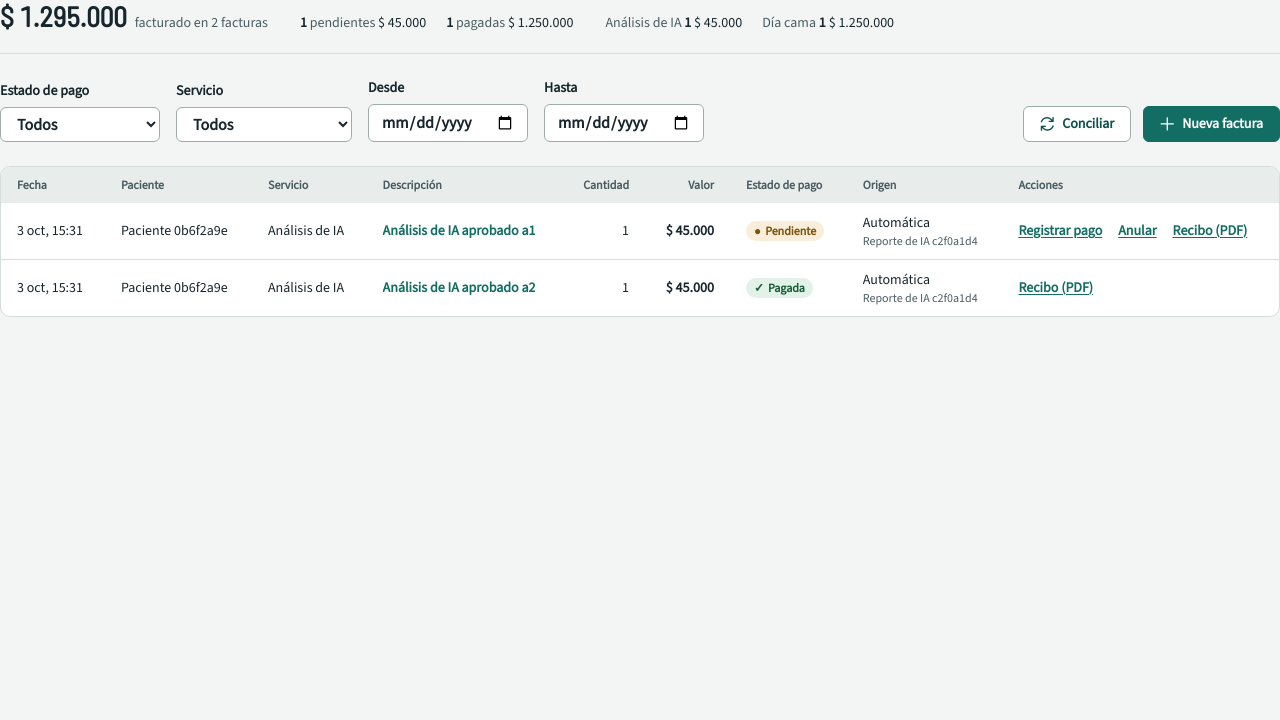
Test: billing screen › asks for the patient id and explains why when the role cannot search
What coordinates should you click on to do the following:
click the button "Nueva factura"
I would click on:
 (1212, 124)
Its box is [1143,106,1279,142].
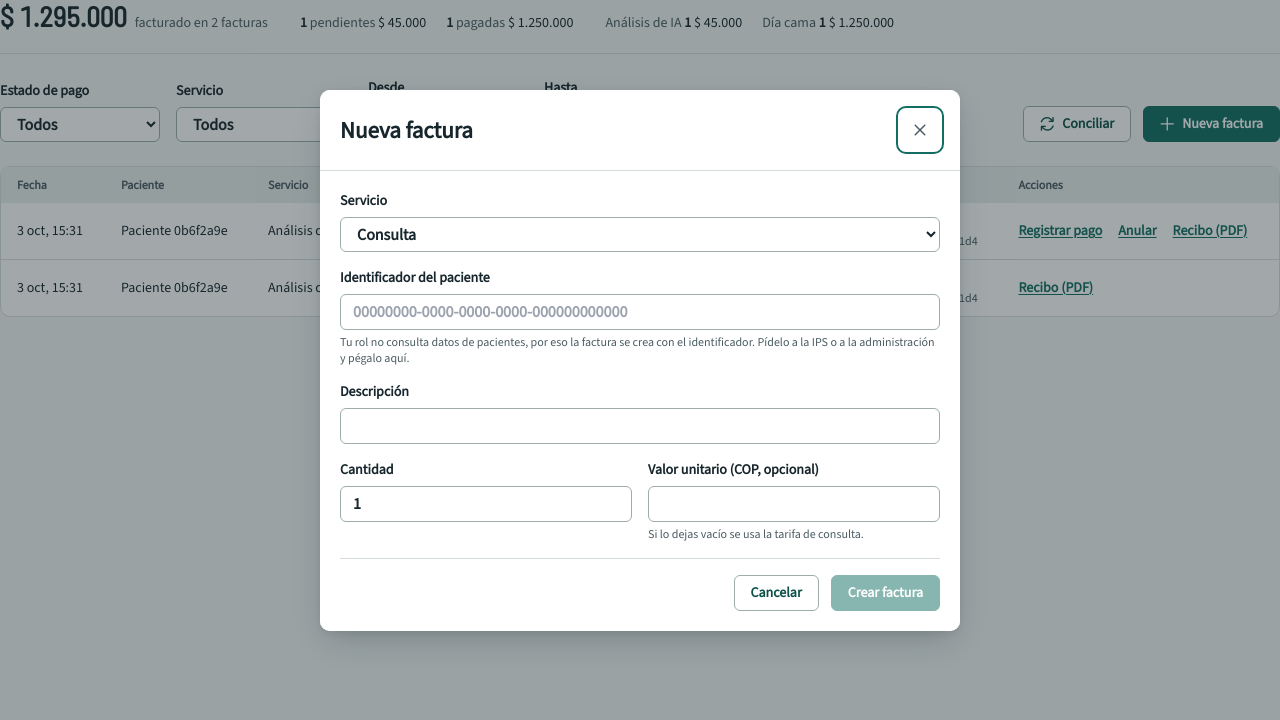
Result: the field labelled "Identificador del paciente" is shown at [340,294,940,330]
Result: the text "Tu rol no consulta datos de pacientes" is shown at [340,334,935,366]
Result: the button "Crear factura" is disabled at [831,574,940,610]
